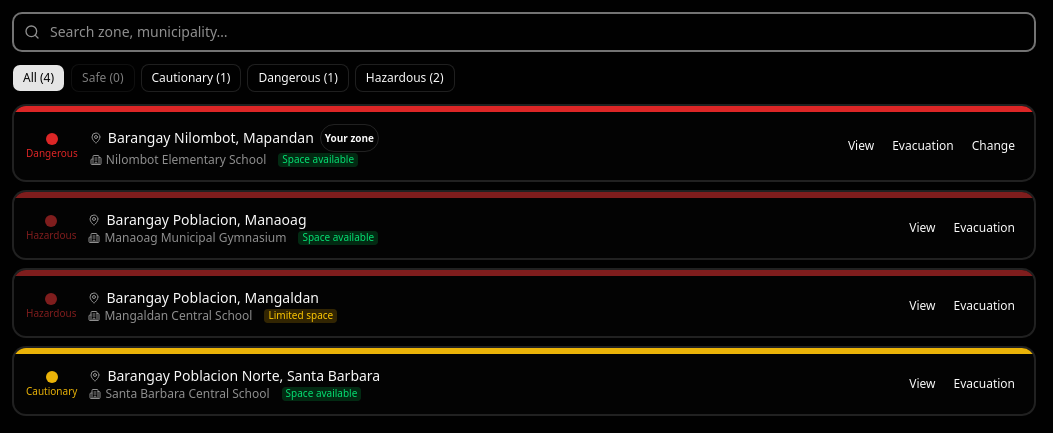
Test case: ZoneMap › filters the list down to one status, and back again
Step 1. Click the button "Hazardous (2)" → click(405, 78), box x1=355 y1=64 x2=455 y2=92
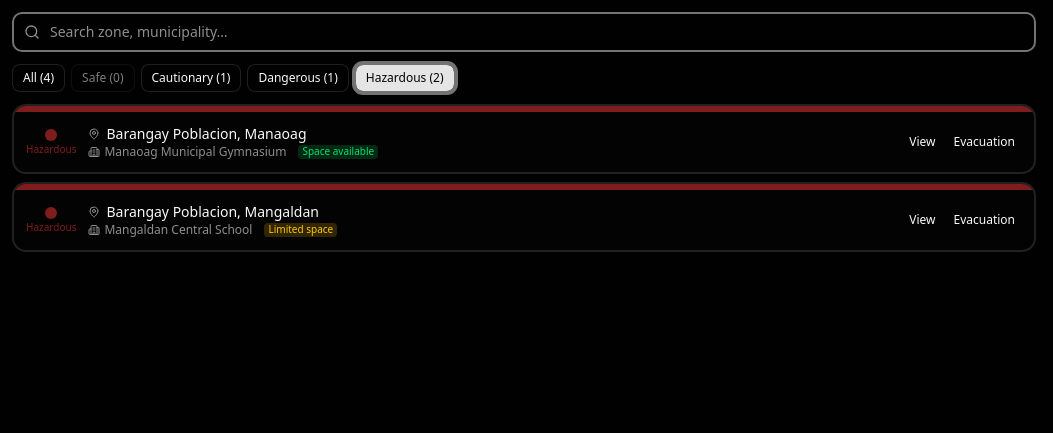
expect the number of elements with test id "zone-region" is 2: met, box x1=12 y1=104 x2=1036 y2=174; x1=12 y1=182 x2=1036 y2=252
Step 2. Click the button "All (4)" → click(39, 78), box x1=12 y1=64 x2=65 y2=92
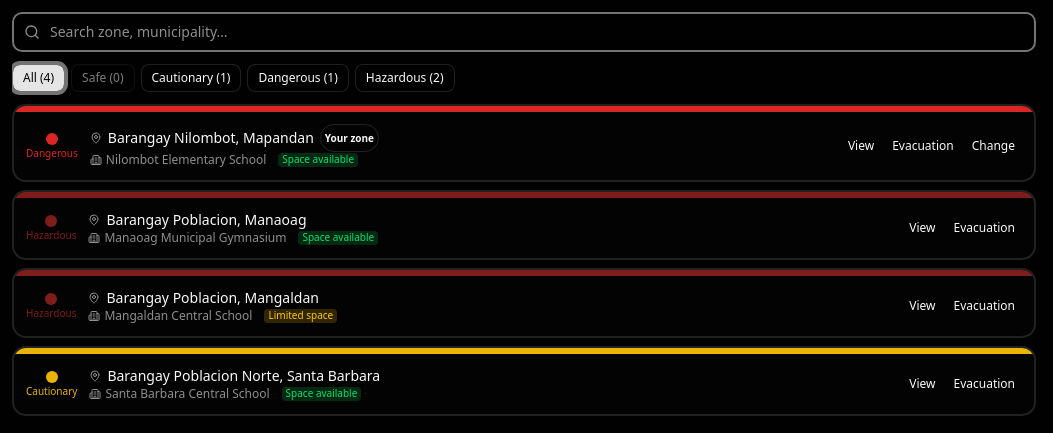
expect the number of elements with test id "zone-region" is 4: met, box x1=12 y1=104 x2=1036 y2=182; x1=12 y1=190 x2=1036 y2=260; x1=12 y1=268 x2=1036 y2=338; x1=12 y1=346 x2=1036 y2=416
